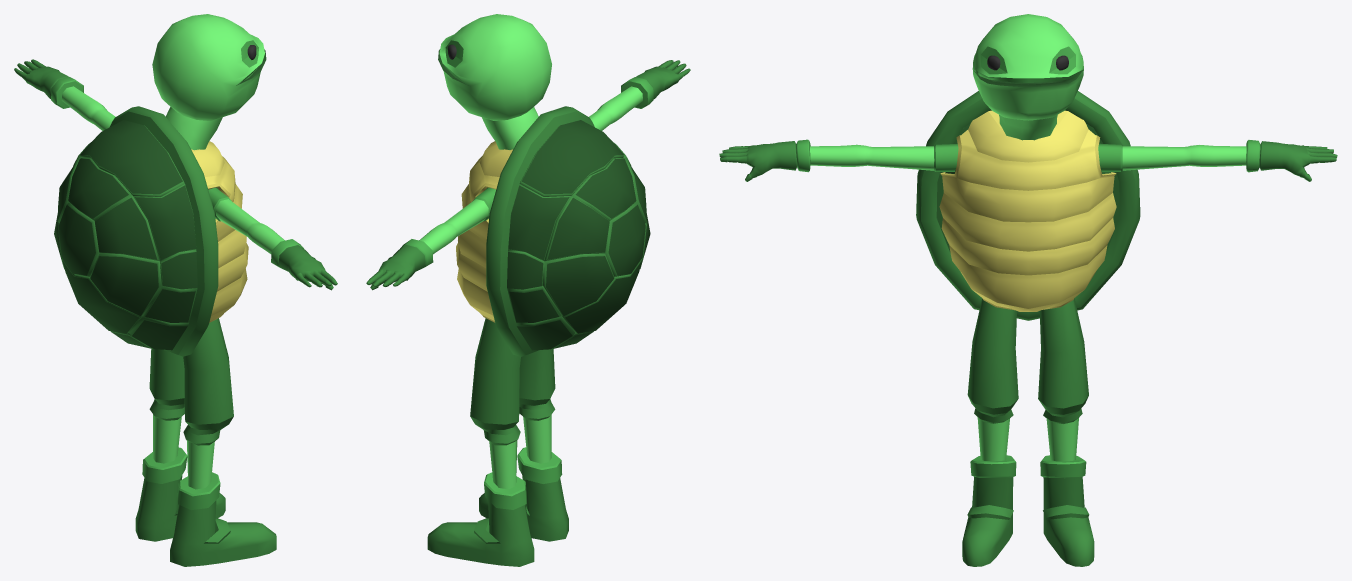
The model's file is scene_gy9smsWPoM.glb.
3 views of the same model, side by side, from view 1: azimuth 30°, elevation 25°; view 2: azimuth 150°, elevation 25°; view 3: azimuth 270°, elevation 25° (orthographic).
Parts seen in each view (by area): view 1: _100Avatars_182_CoolTurtle; view 2: _100Avatars_182_CoolTurtle; view 3: _100Avatars_182_CoolTurtle.
Boxes of the visible parts, left/top/right/bottom form: _100Avatars_182_CoolTurtle: left=14, top=14, right=337, bottom=566; _100Avatars_182_CoolTurtle: left=366, top=14, right=690, bottom=566; _100Avatars_182_CoolTurtle: left=719, top=14, right=1337, bottom=566.
Size of the model in its own units: 1.69 by 4.33 by 4.61.
1 material, 1 textured.
